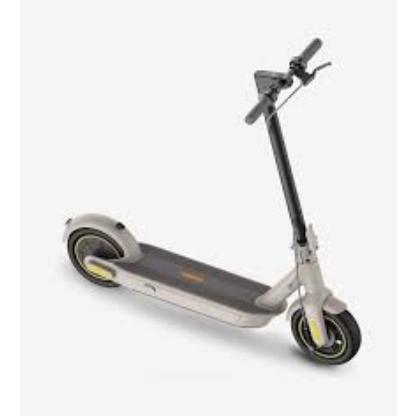bike: (61, 37, 364, 368)
